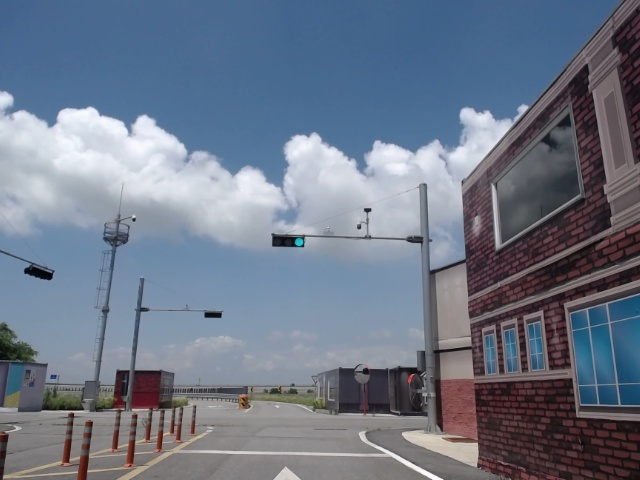green_3: (273, 237, 304, 247)
